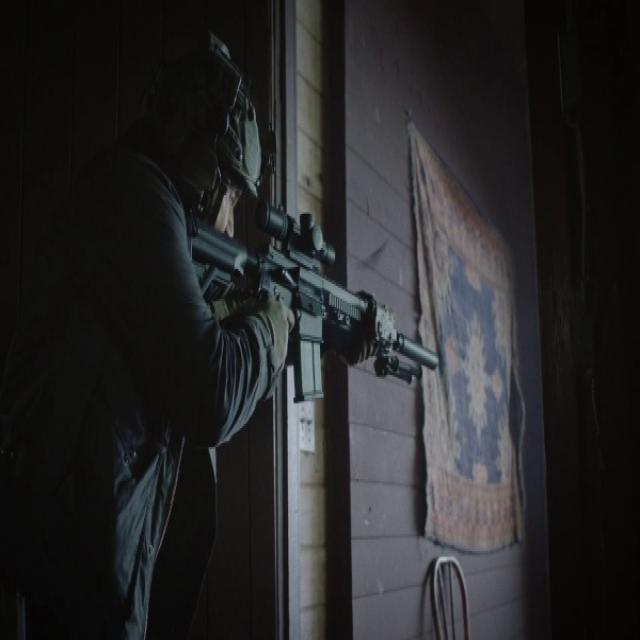rifle: (188, 206, 442, 406)
